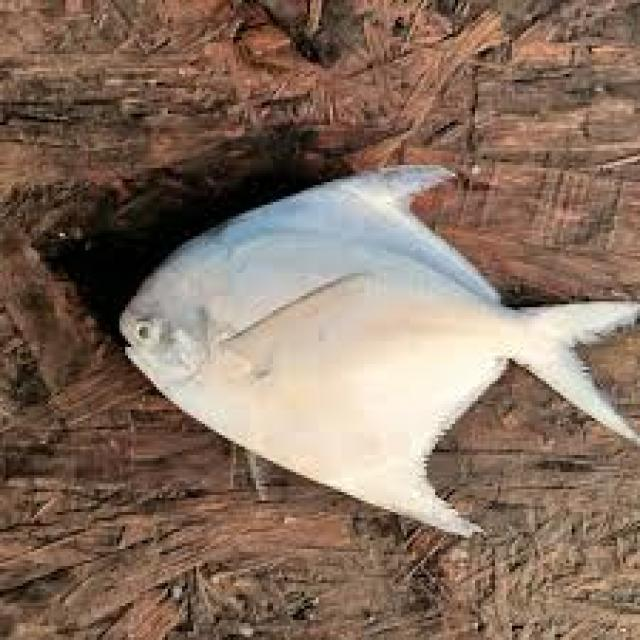pomfred: (123, 165, 637, 530)
